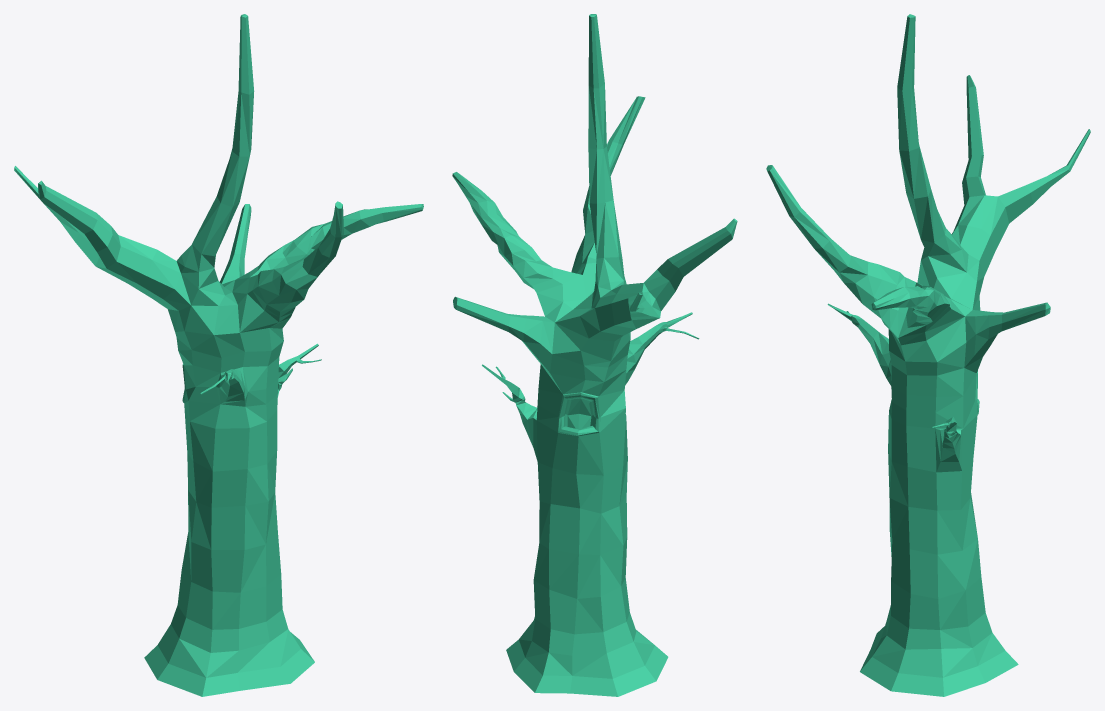
The model's file is tree_001.fbx.
3 views of the same model, side by side, from view 1: azimuth 30°, elevation 25°; view 2: azimuth 150°, elevation 25°; view 3: azimuth 270°, elevation 25° (orthographic). The views are drawn at different scales.
Visible parts, largest first — view 1: tree_001; view 2: tree_001; view 3: tree_001.
Boxes of the visible parts, <box> form: tree_001: <box>14,14,423,696</box>; tree_001: <box>452,14,737,696</box>; tree_001: <box>766,14,1090,696</box>.
Size of the model in its own units: 1263 by 2335 by 1062.
